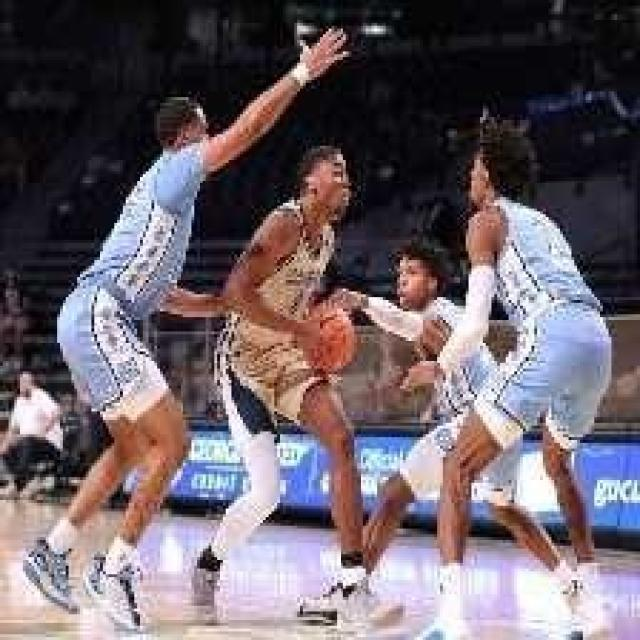Ball: (304, 314, 355, 370)
